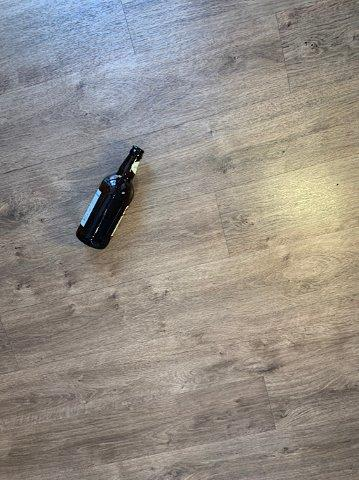botolkaca: (77, 147, 143, 248)
